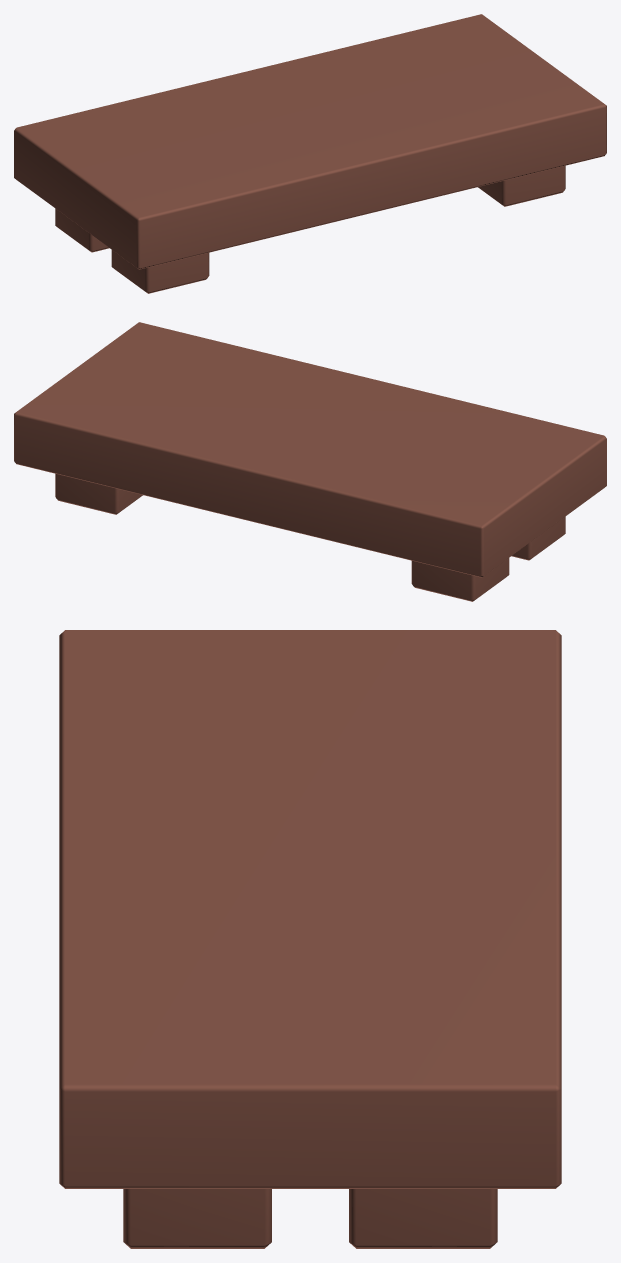
Rendered from Store_10_Stand_1.glb.
3 views of the same model, one above another, from view 1: azimuth 30°, elevation 25°; view 2: azimuth 150°, elevation 25°; view 3: azimuth 270°, elevation 25° (orthographic). The views are drawn at different scales.
Visible parts, largest first — view 1: Store_10_Stand_1; view 2: Store_10_Stand_1; view 3: Store_10_Stand_1.
Part boxes in pixels (x1,y1,x2,y2): Store_10_Stand_1: (14,14,606,293); Store_10_Stand_1: (14,322,606,601); Store_10_Stand_1: (59,630,561,1248).
Size of the model in its own units: 0.8655 by 0.1666 by 0.4002.
Materials: 1 (1 with a texture image).
